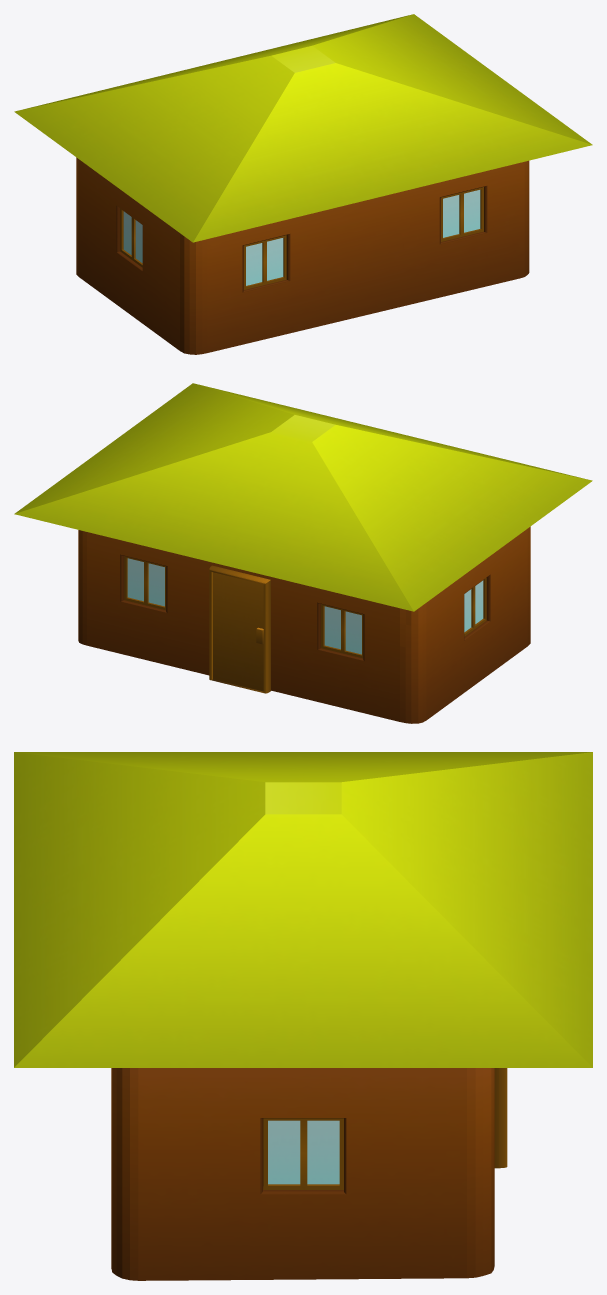
File: Elf_House_2.fbx
The picture shows the model from 3 angles, top to bottom: view 1: azimuth 30°, elevation 25°; view 2: azimuth 150°, elevation 25°; view 3: azimuth 270°, elevation 25°; orthographic projection. The views are drawn at different scales.
Parts seen in each view (by area): view 1: tucho de paja, estructura, ventanas; view 2: tucho de paja, estructura, puerta., ventanas; view 3: tucho de paja, estructura, ventanas, puerta..
Boxes of the visible parts, left/top/right/bottom form: tucho de paja: left=14, top=14, right=592, bottom=242; estructura: left=76, top=157, right=529, bottom=354; ventanas: left=120, top=187, right=483, bottom=289; tucho de paja: left=14, top=383, right=592, bottom=611; estructura: left=78, top=526, right=530, bottom=723; puerta.: left=209, top=565, right=271, bottom=693; ventanas: left=124, top=556, right=486, bottom=658; tucho de paja: left=14, top=752, right=592, bottom=1067; estructura: left=111, top=1068, right=494, bottom=1280; ventanas: left=263, top=1118, right=343, bottom=1189; puerta.: left=494, top=1068, right=507, bottom=1168.
Bounding box in the file's own units: 8.28 × 4.23 × 6.42.
